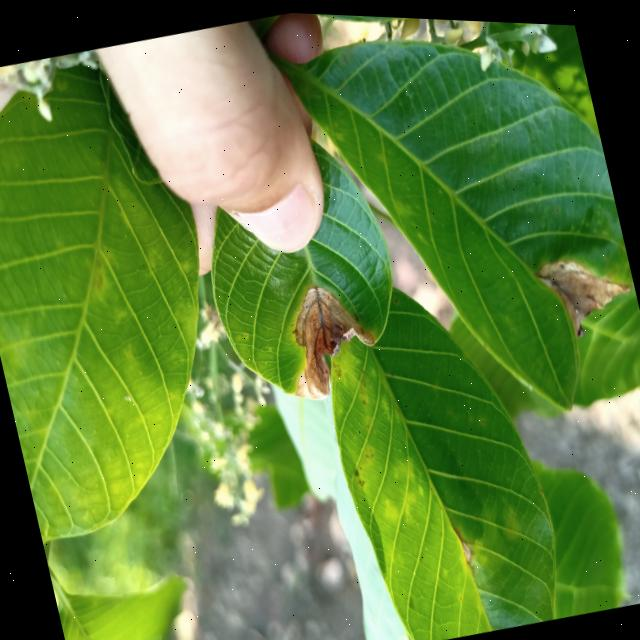Colletotrichum: (244, 331, 247, 334)
Leaf-Blight: (272, 270, 384, 401), (531, 238, 640, 342)
